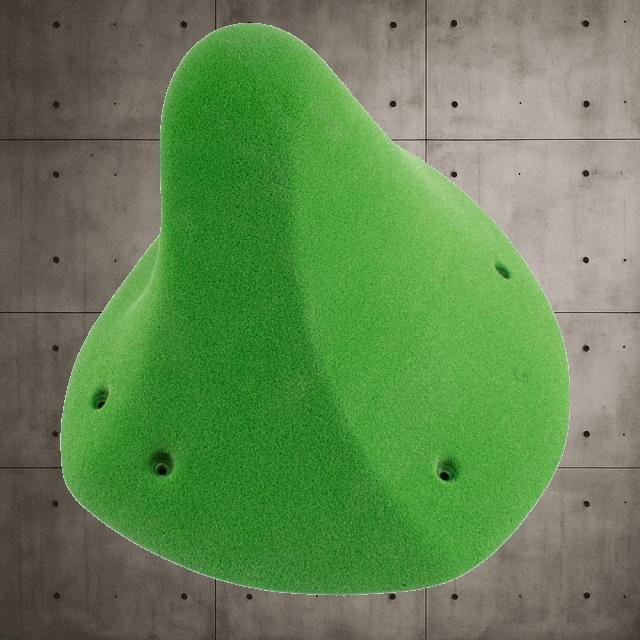Jug: (59, 21, 571, 595)
